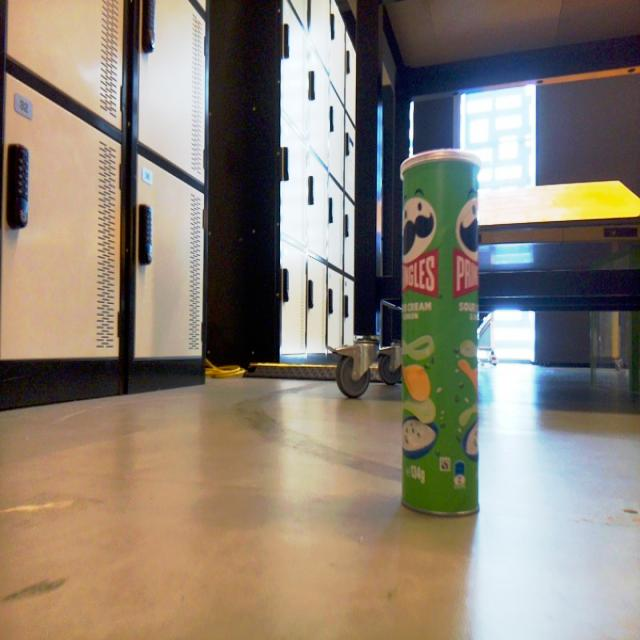greenpringles: (374, 144, 500, 528)
